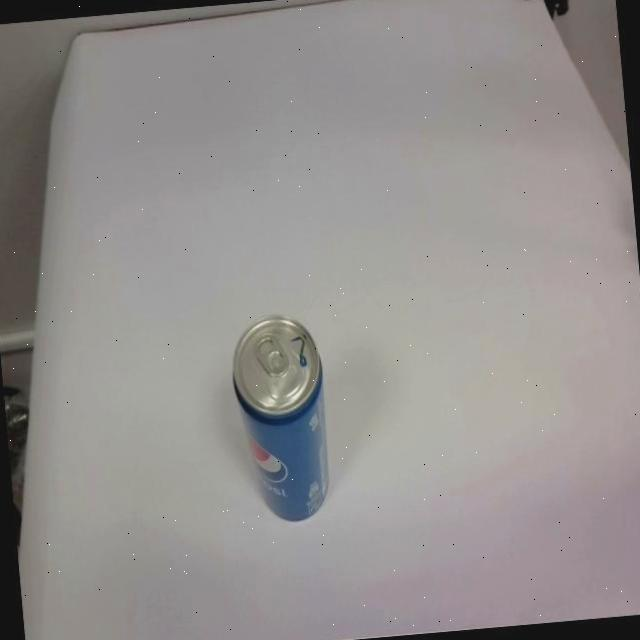debris: (226, 310, 337, 526)
